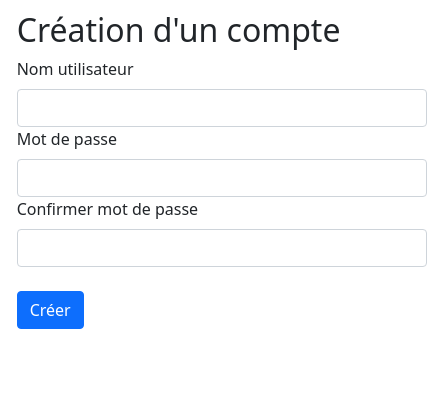
Test: Création d'un compte client › Le nom d'utilisateur admin a été entré
The image size is (444, 420).
Type "admin" into the field labelled "Nom utilisateur" at (222, 108), box [17, 89, 427, 127]
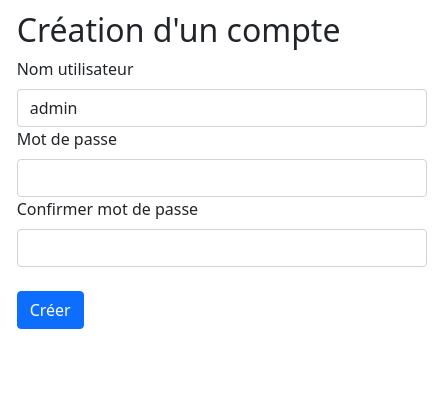
Type "motDePasseAjoute" into the password field labelled "Mot de passe" at (222, 178), box [17, 159, 427, 197]
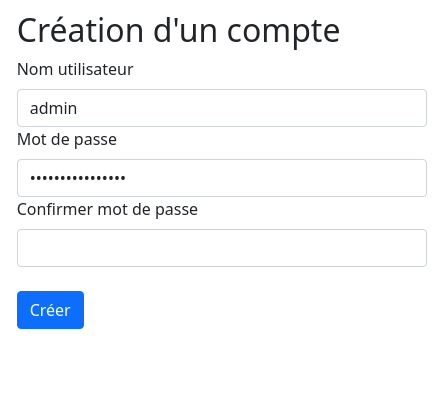
Type "motDePasseAjoute" into the password field labelled "Confirmer mot de passe" at (222, 248), box [17, 229, 427, 267]
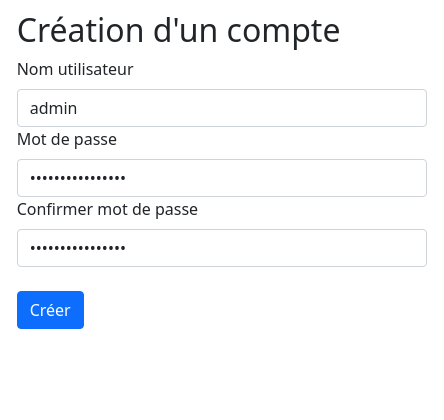
Click the button "Créer" at (50, 310), box [17, 291, 84, 329]
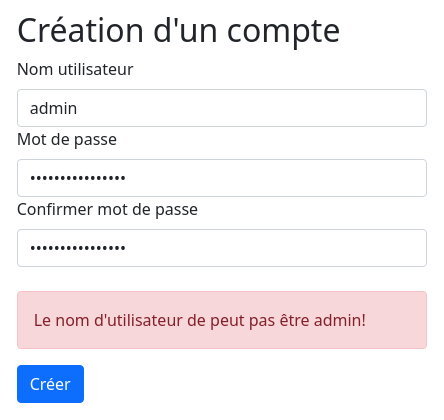
Expected: the message reads "Le nom d'utilisateur de peut pas être admin!", [34, 309, 366, 331]
